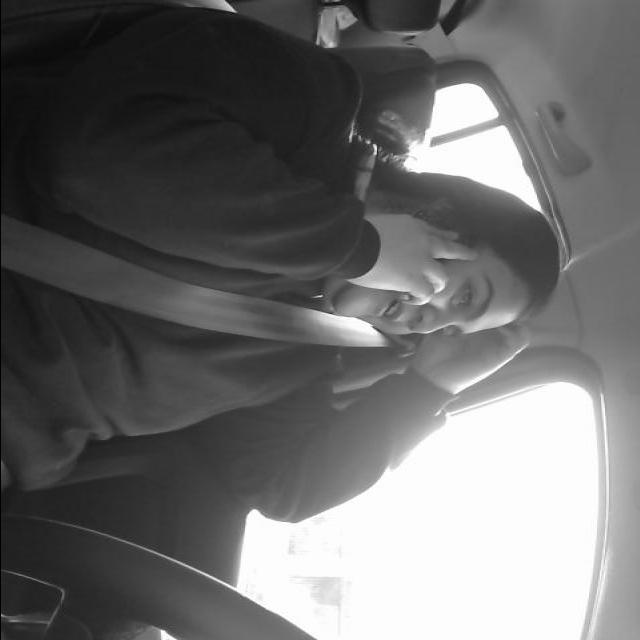mobile use: (374, 192, 486, 304)
